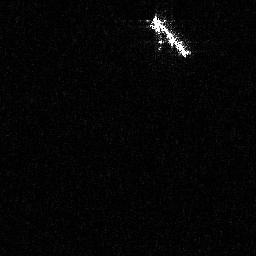ship: (145, 11, 194, 59)
